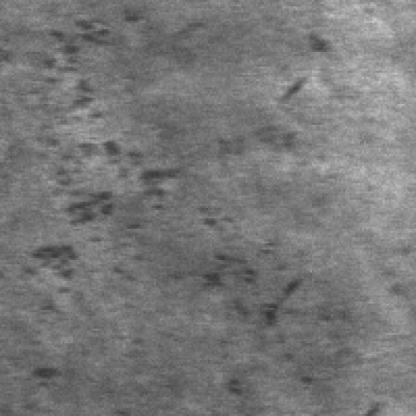rolled-in_scale: (35, 15, 177, 339), (200, 108, 316, 341)
